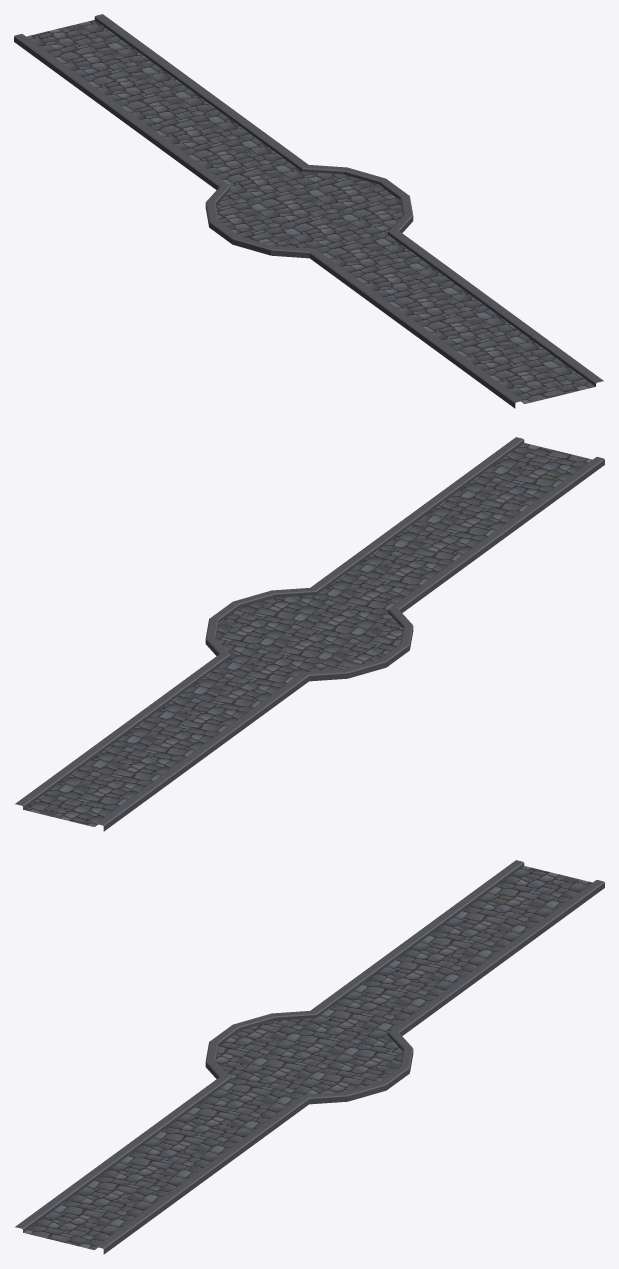
Rendered from pavementTwoWayLong.glb.
3 renders of one model, top to bottom at view 1: azimuth 30°, elevation 25°; view 2: azimuth 150°, elevation 25°; view 3: azimuth 330°, elevation 25°, orthographic.
Parts seen in each view (by area): view 1: PavementTwoWayLong; view 2: PavementTwoWayLong; view 3: PavementTwoWayLong.
Boxes of the visible parts, <box> form: PavementTwoWayLong: <box>14,14,603,408</box>; PavementTwoWayLong: <box>15,437,604,831</box>; PavementTwoWayLong: <box>15,860,604,1254</box>.
Size of what is drawn, in the model's own units: 8.17 by 0.2711 by 40.
1 material, 1 textured.
